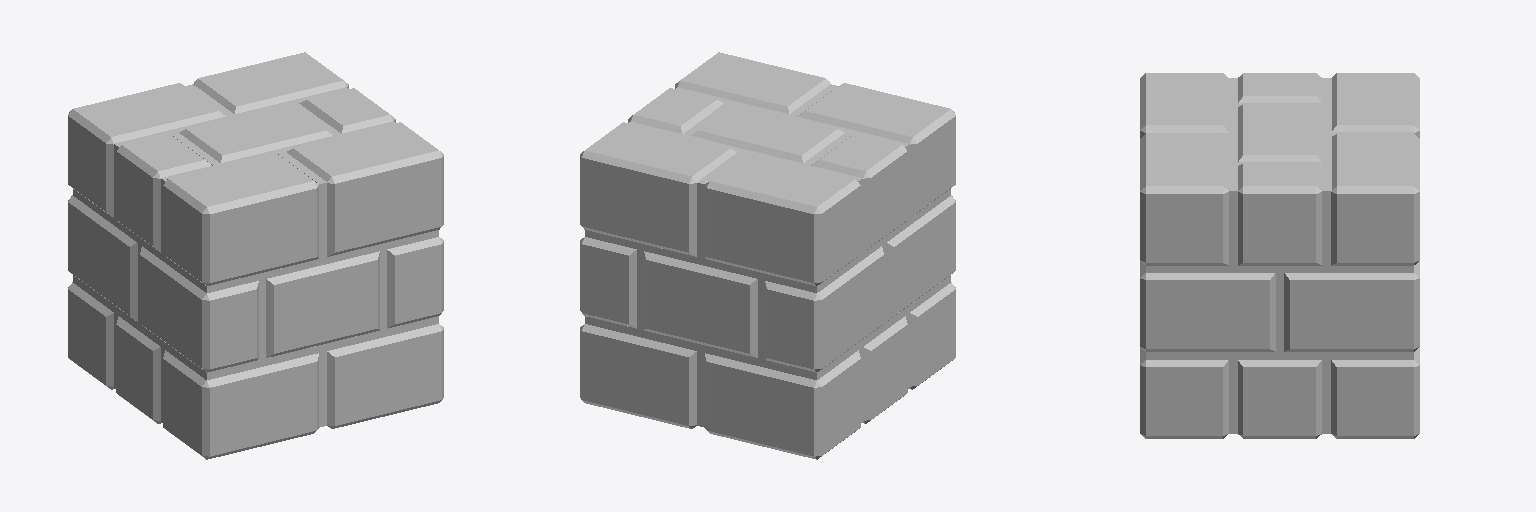
The model's file is Brick_Block.obj.
3 renders of one model, left to right at view 1: azimuth 30°, elevation 25°; view 2: azimuth 150°, elevation 25°; view 3: azimuth 270°, elevation 25°, orthographic.
Parts seen in each view (by area): view 1: Brick_Block_-_Bricks_Cube.001, Brick_Block_-_Grooves_Cube; view 2: Brick_Block_-_Bricks_Cube.001, Brick_Block_-_Grooves_Cube; view 3: Brick_Block_-_Bricks_Cube.001, Brick_Block_-_Grooves_Cube.
Part boxes in pixels (x1,y1,x2,y2): Brick_Block_-_Bricks_Cube.001: (68, 52, 443, 459); Brick_Block_-_Grooves_Cube: (73, 84, 438, 427); Brick_Block_-_Bricks_Cube.001: (580, 52, 955, 459); Brick_Block_-_Grooves_Cube: (585, 84, 950, 427); Brick_Block_-_Bricks_Cube.001: (1140, 73, 1419, 438); Brick_Block_-_Grooves_Cube: (1146, 78, 1413, 433).
Bounding box in the file's own units: 1.76 × 1.75 × 1.76.